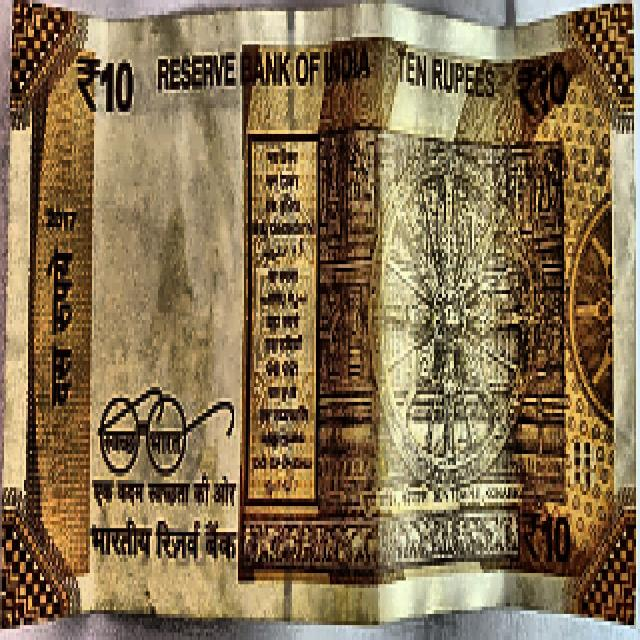-10-: (12, 5, 640, 598)
